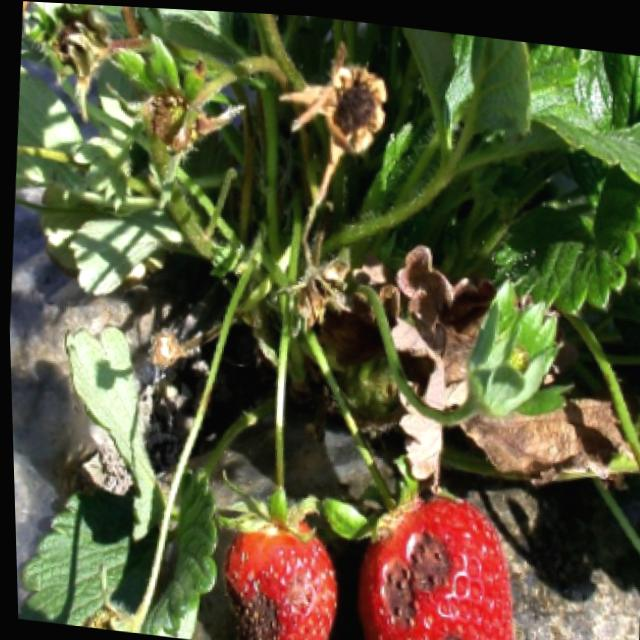Anthracnose Fruit Rot: (370, 523, 466, 640), (218, 568, 324, 640)
